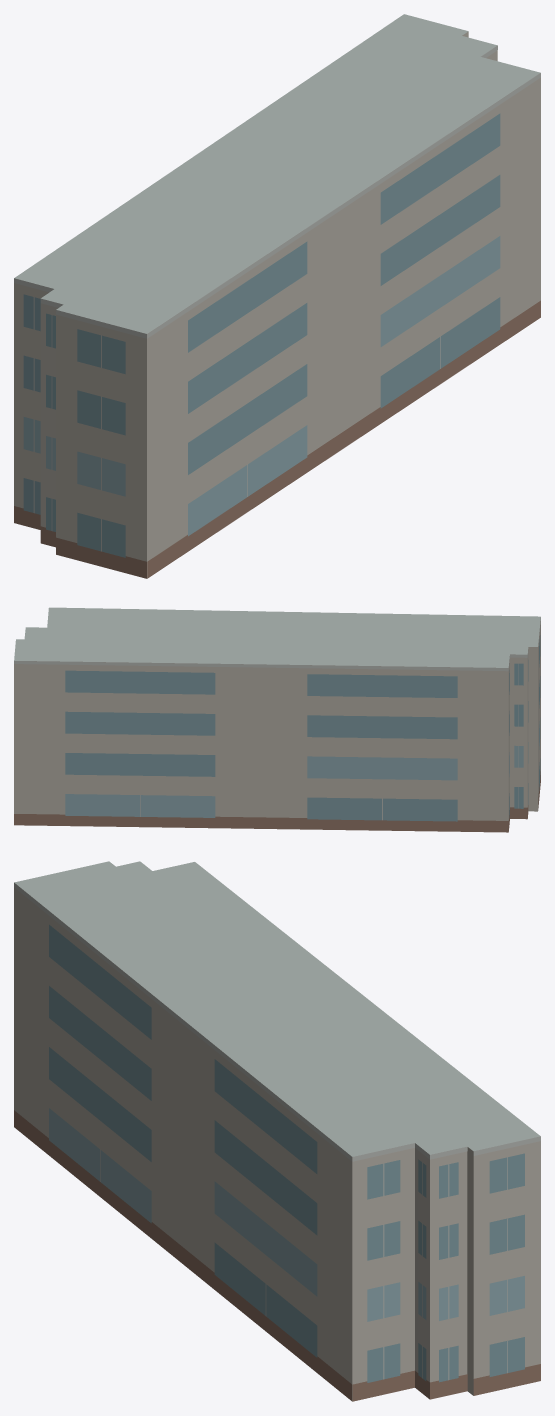
The model's file is survey-upis-32906181.glb.
3 views of the same model, one above another, from view 1: azimuth 30°, elevation 25°; view 2: azimuth 150°, elevation 25°; view 3: azimuth 270°, elevation 25° (orthographic). The views are drawn at different scales.
Parts seen in each view (by area): view 1: survey-upis-32906181.tmp; view 2: survey-upis-32906181.tmp; view 3: survey-upis-32906181.tmp.
Part boxes in pixels (x1,y1,x2,y2): survey-upis-32906181.tmp: [14, 14, 540, 578]; survey-upis-32906181.tmp: [14, 607, 540, 832]; survey-upis-32906181.tmp: [14, 861, 540, 1401].
Size of the model in its own units: 32.42 by 12.5 by 24.4.
